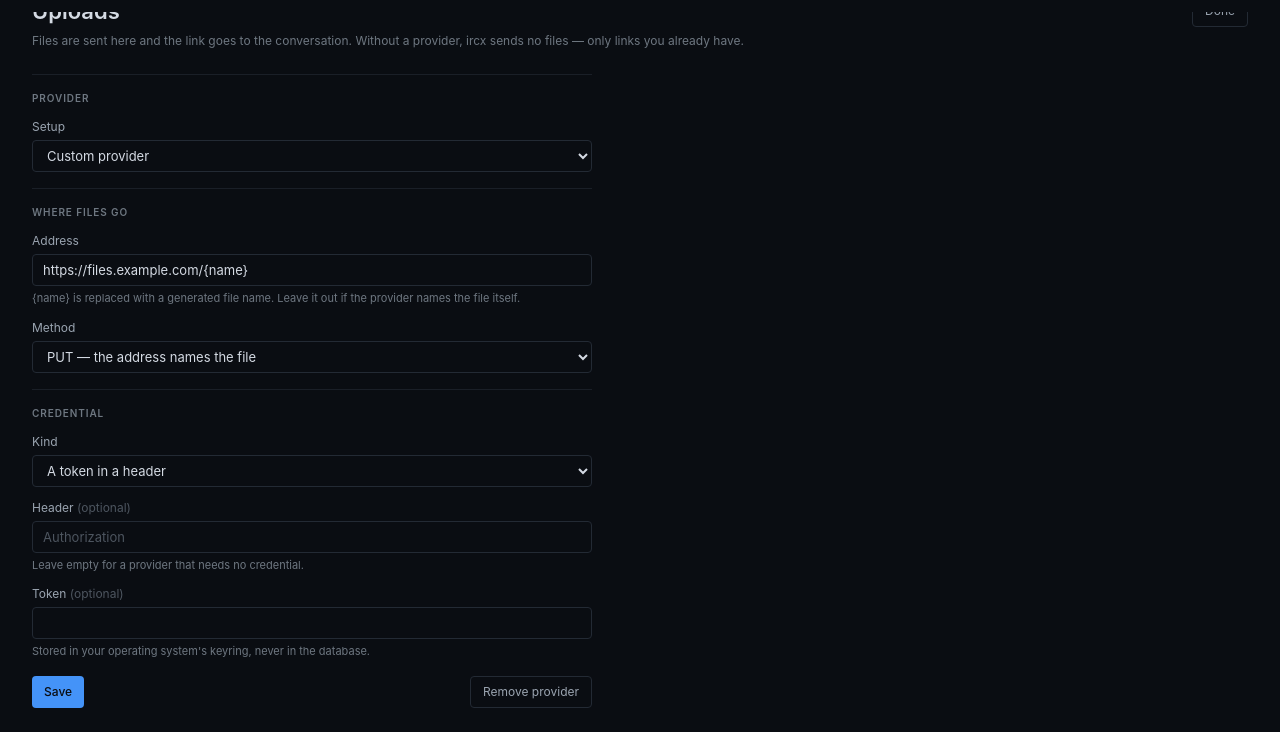
the uploads page › removes the provider and its token together
This screenshot has width=1280, height=732.
(page scrolled)
Click the button "Remove provider" at (531, 692), box [470,676,592,708]
(page scrolled)
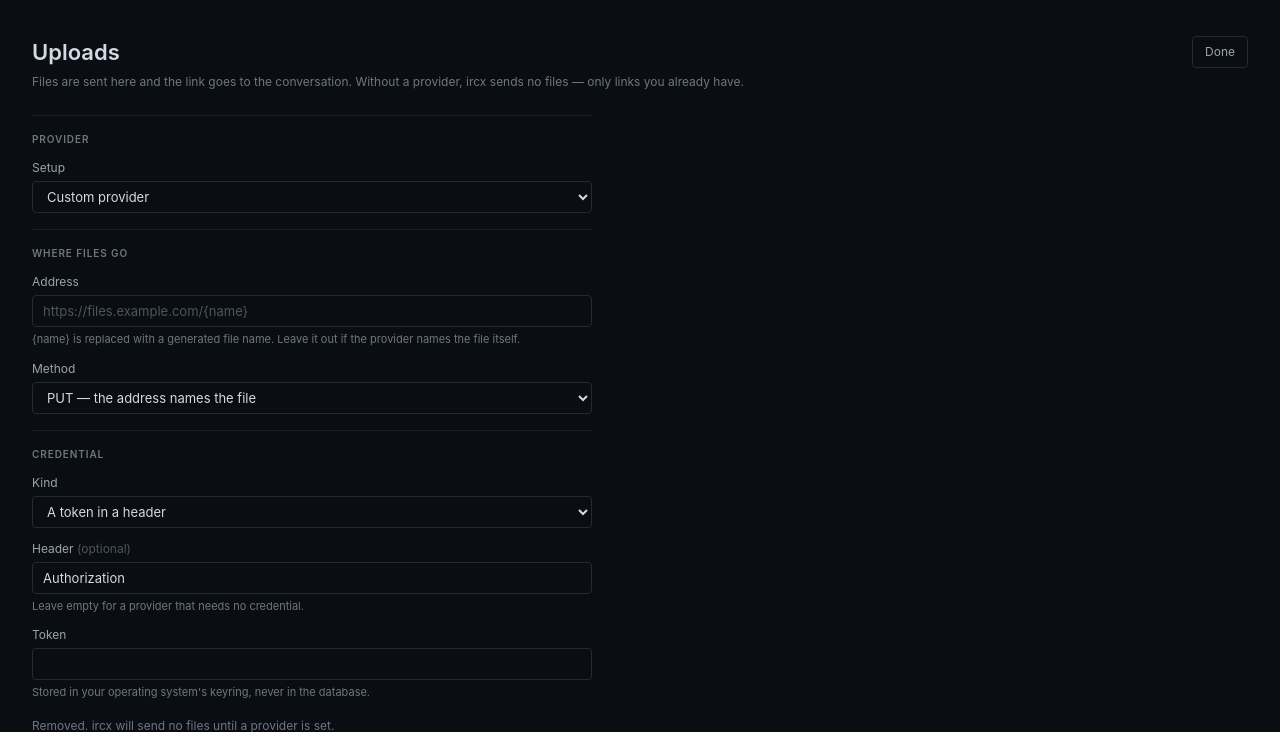
Expected: the button "Done" is enabled, [1192,36,1248,68]
Expected: the text "Removed. ircx will send no files until a provider is set." is shown, [32,718,334,731]
